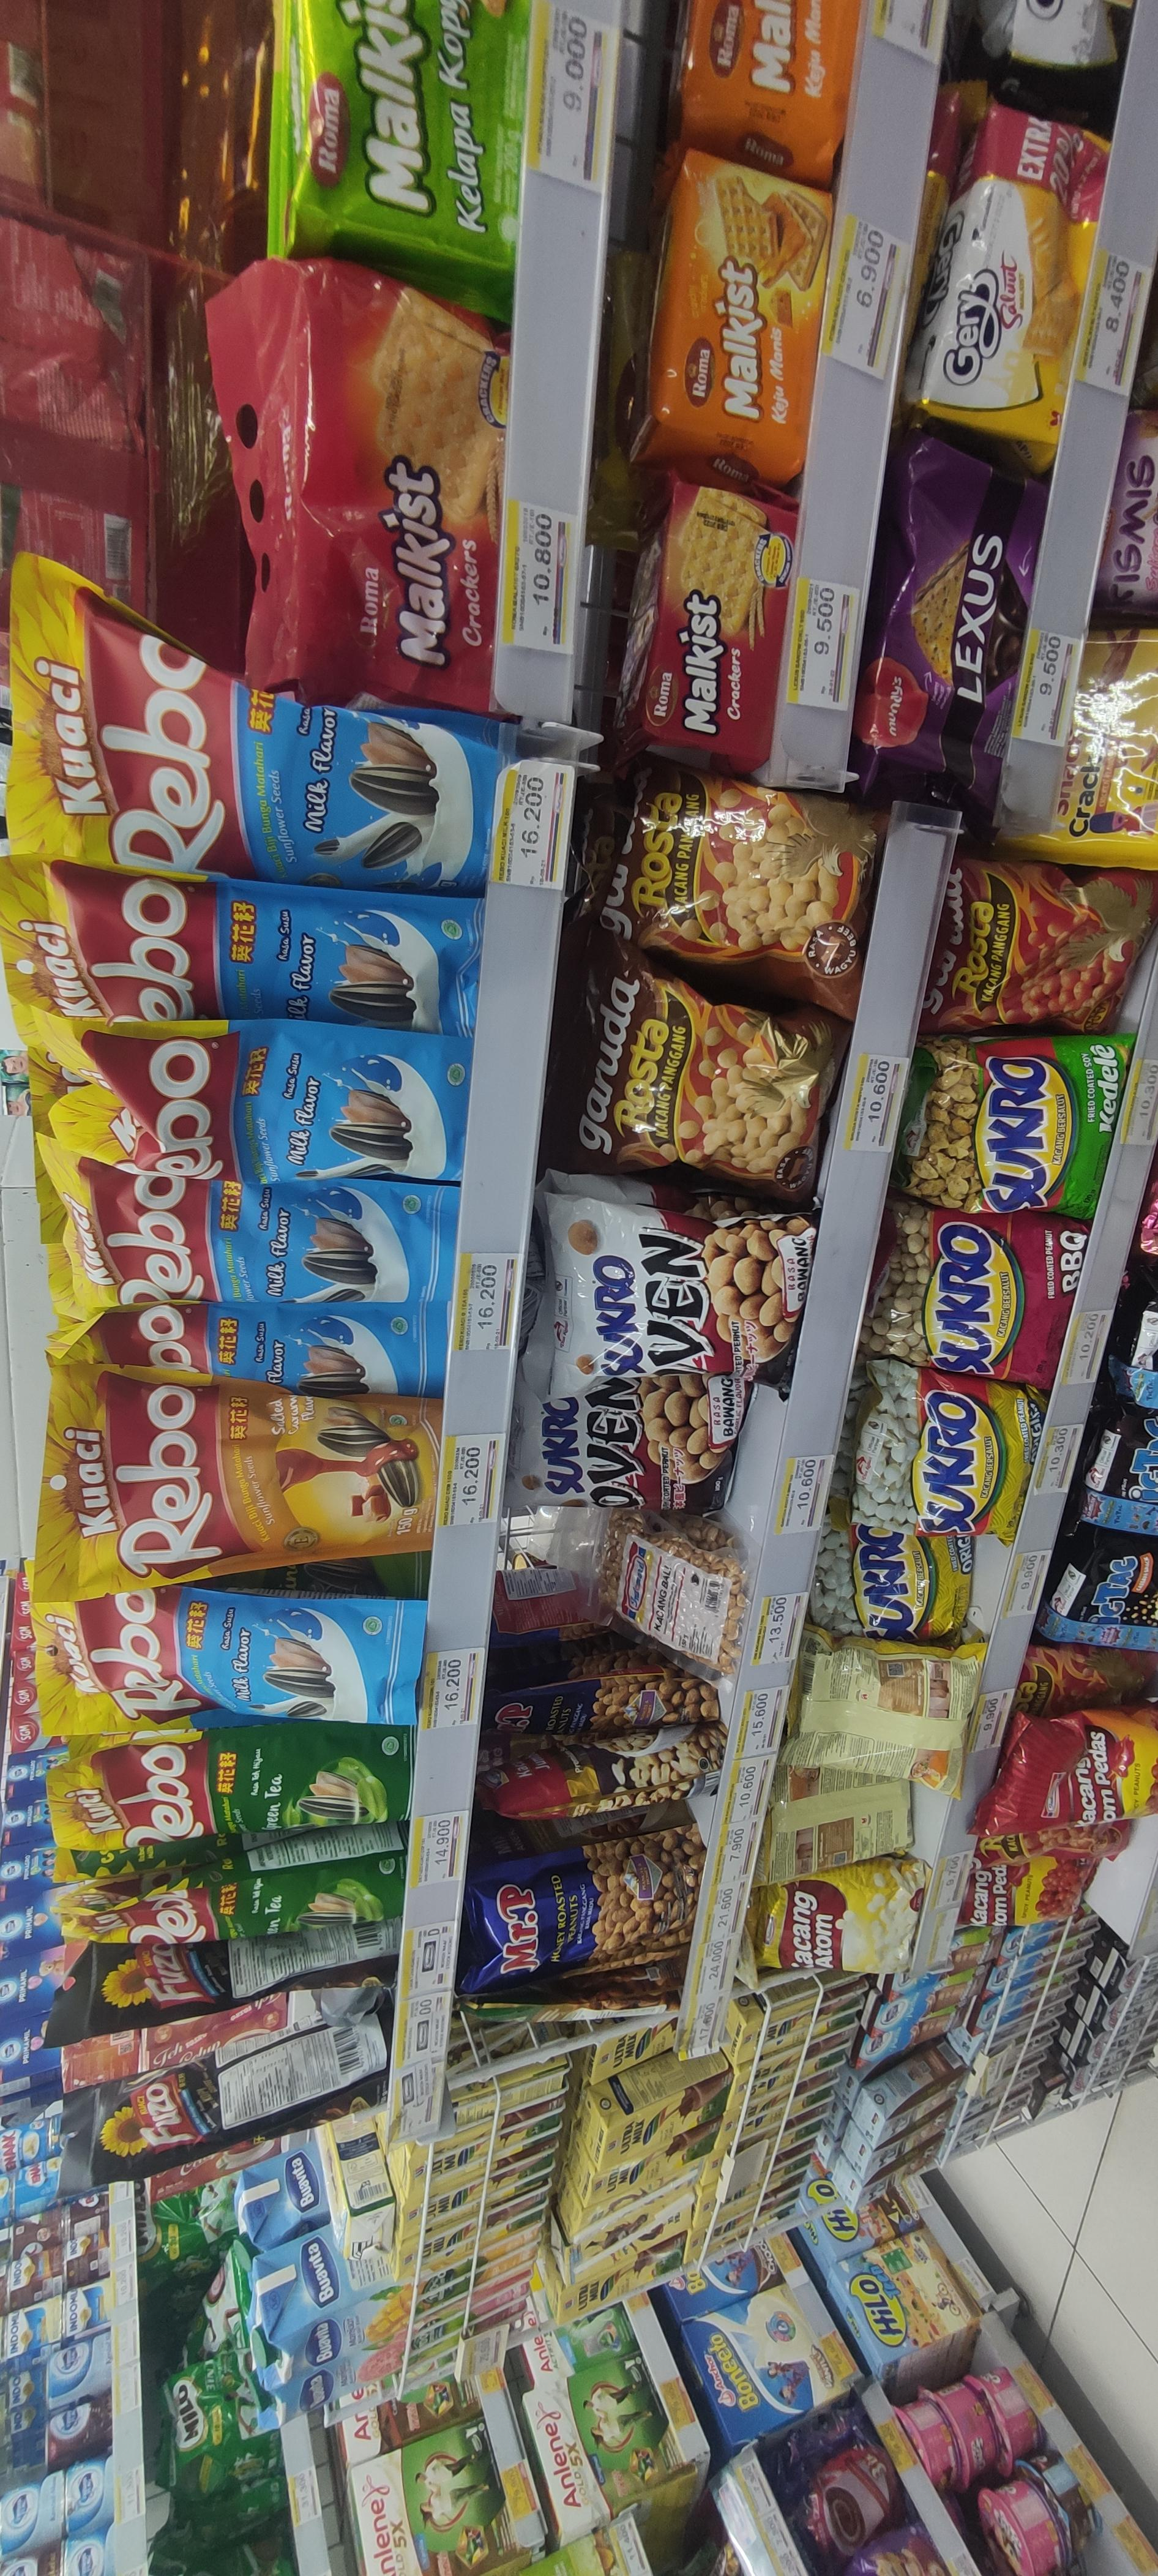90101111611100: (928, 864, 1158, 1042)
90101111615100: (568, 770, 892, 992), (544, 982, 861, 1180)
90101225205101: (871, 92, 1137, 460)
IndomaretKacangGoreng: (606, 1518, 749, 1663)
KuaciReboCaramel: (2, 1373, 462, 1582)
KuaciReboMatchaTea: (0, 1733, 417, 1860)
KuaciReboMilk: (0, 527, 498, 879), (2, 1580, 506, 1733), (0, 1033, 506, 1176), (5, 867, 511, 1010), (0, 1158, 506, 1301)
Lexus: (851, 498, 1032, 803)
Mr.PPeanut: (457, 1833, 705, 1983)
SukroBbq: (874, 1217, 1091, 1410)
SukroKedele: (902, 1045, 1110, 1212)
SukroOriginal: (838, 1345, 1038, 1546), (821, 1529, 1015, 1658)
SukroOvenBawang: (534, 1180, 821, 1385), (514, 1359, 798, 1518)
